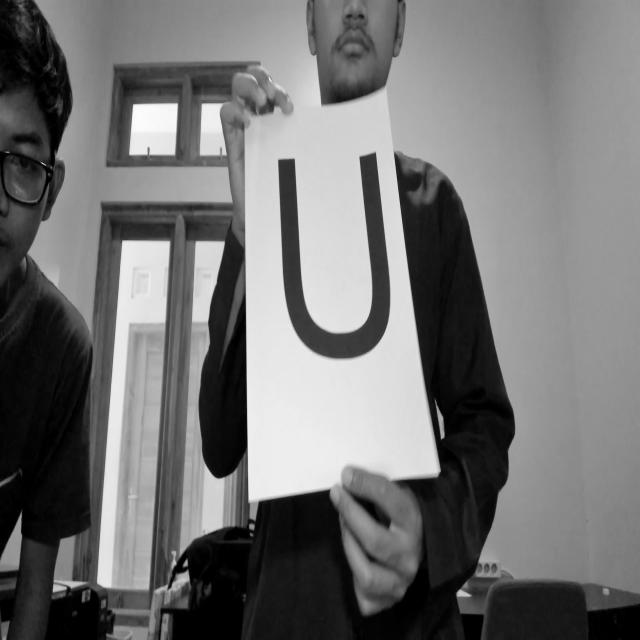u: (260, 135, 400, 361)
